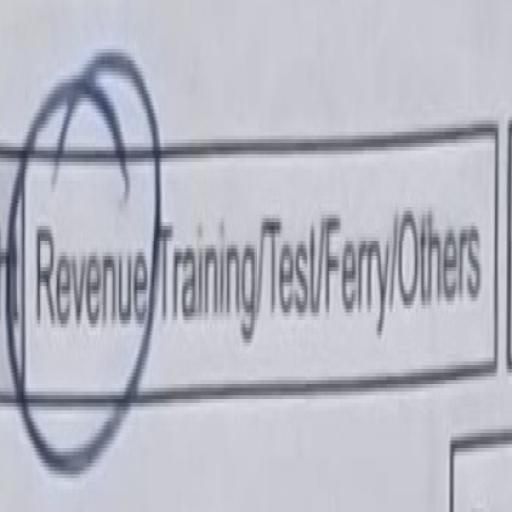check: (10, 18, 158, 501)
